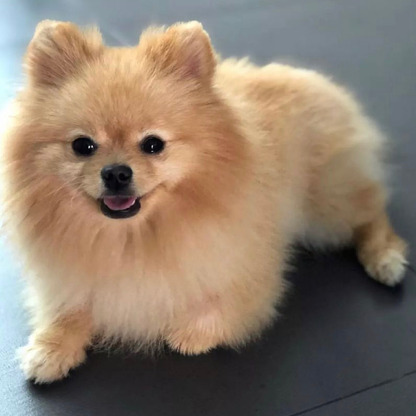Pomeranian: (18, 19, 368, 387)
